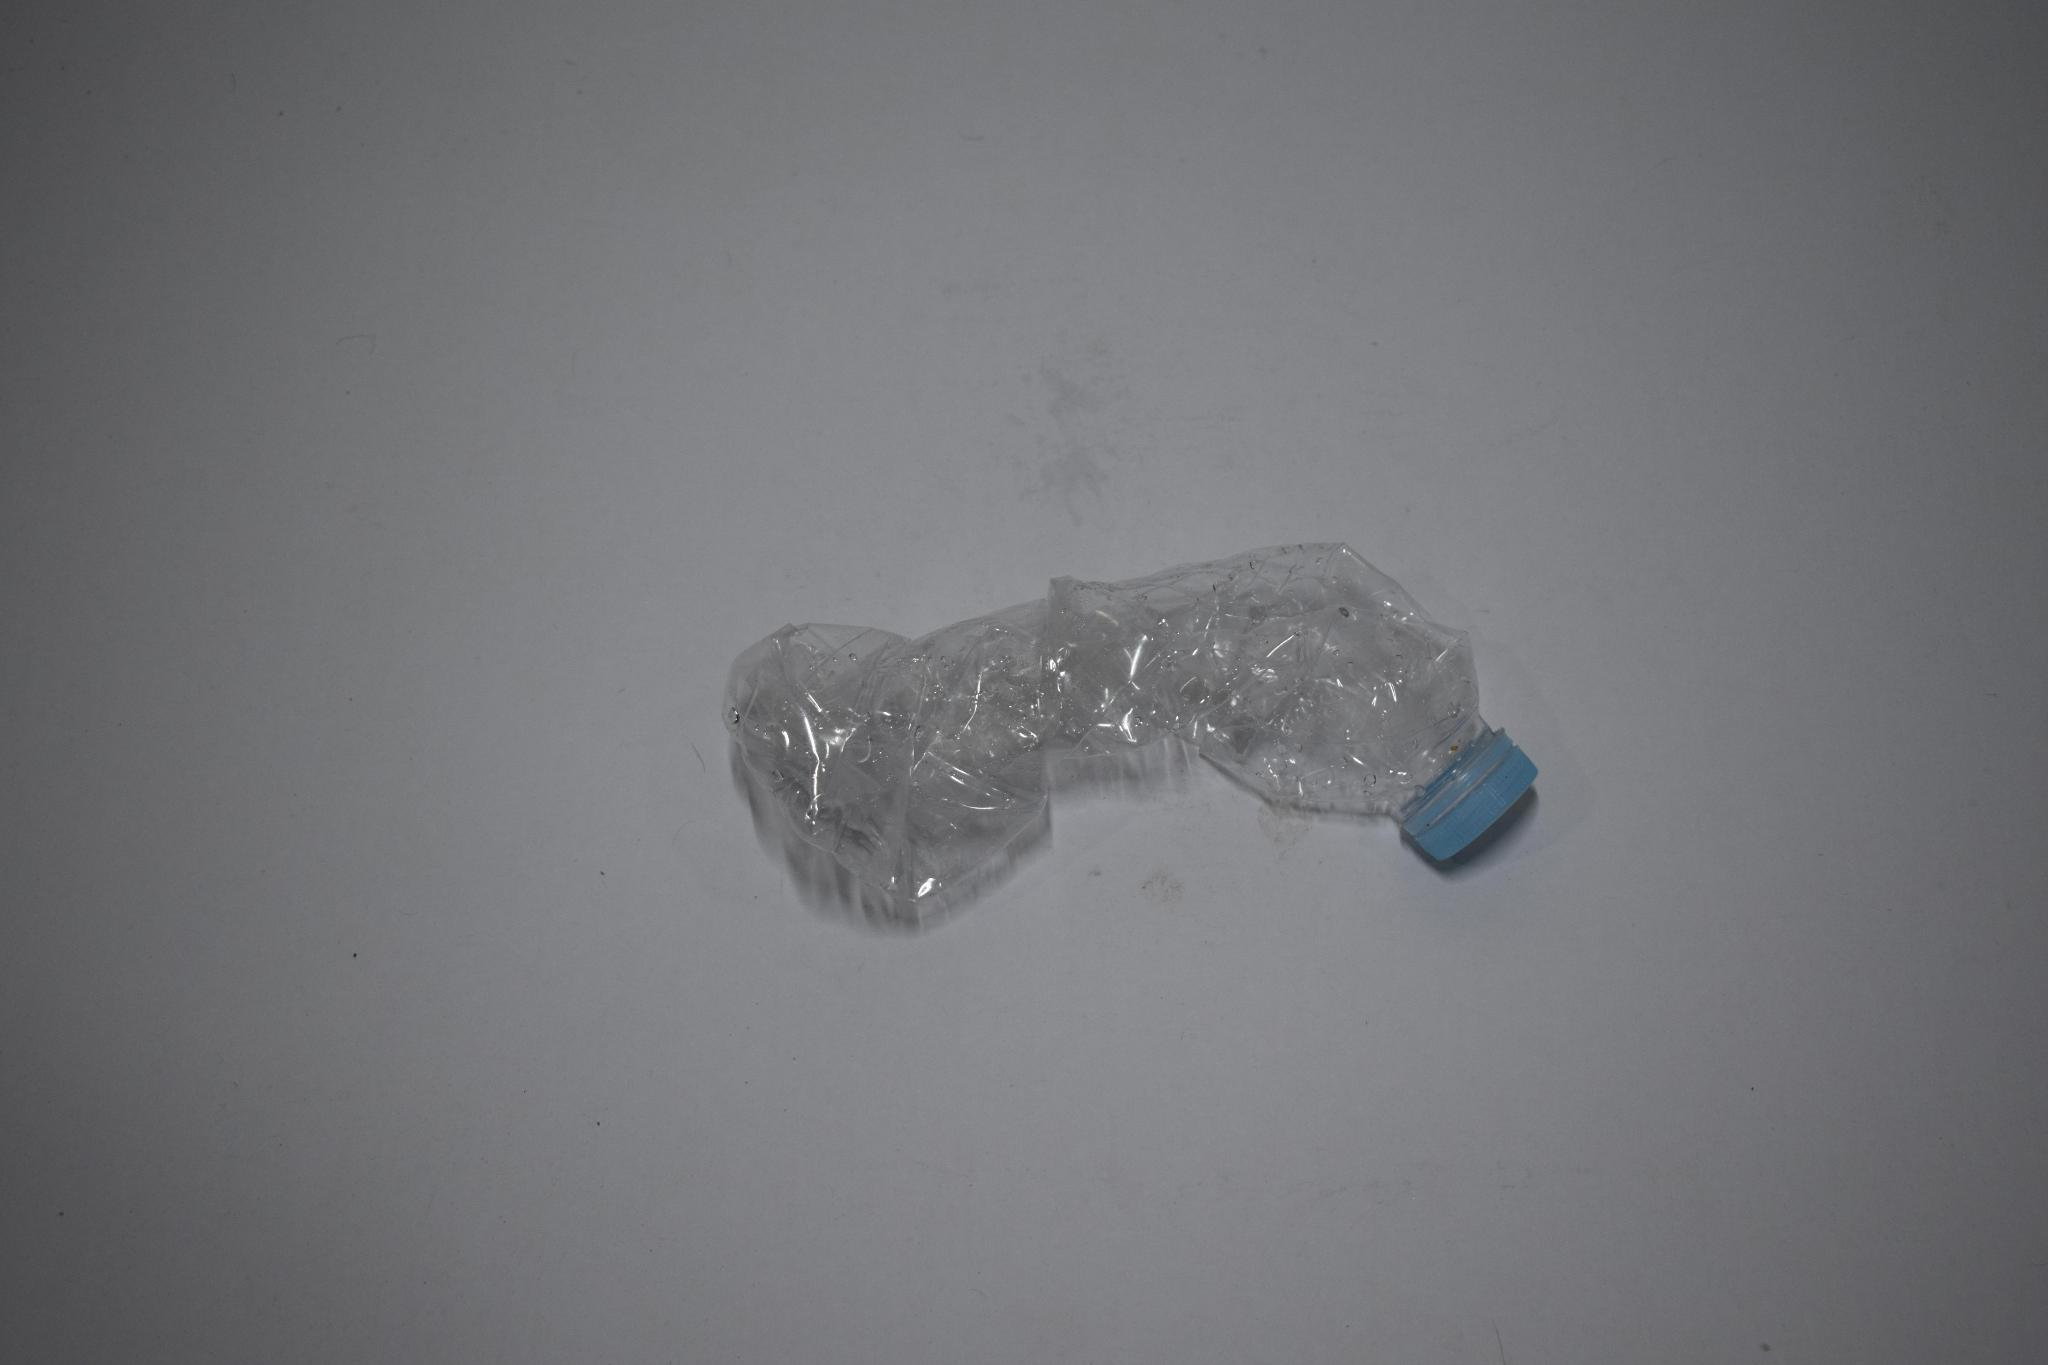bottle: (697, 561, 1585, 941)
